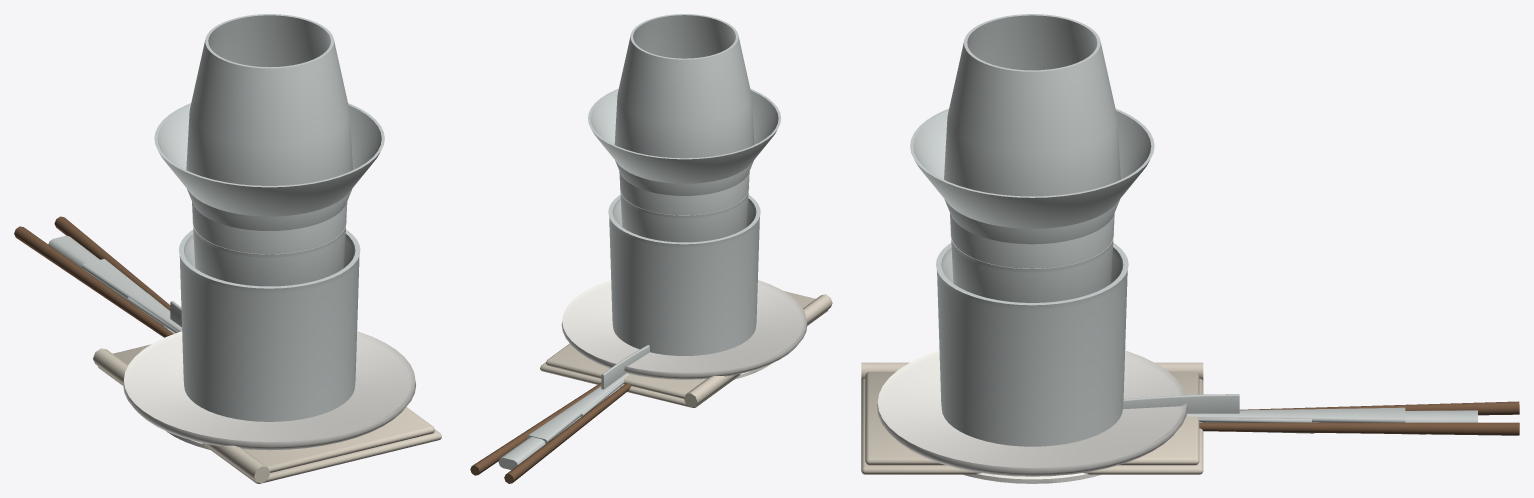
The model's file is tableware-lod0.glb.
3 renders of one model, left to right at view 1: azimuth 30°, elevation 25°; view 2: azimuth 150°, elevation 25°; view 3: azimuth 270°, elevation 25°, orthographic. The views are drawn at different scales.
Parts seen in each view (by area): view 1: wine.lod0__table glass, rocks.lod0__table glass, saucer.lod0__table porcelain, coupe.lod0__table glass, tulip.lod0__table glass, napkin.lod0__oatmeal linen, chopsticks.lod0__chopstick walnut, spoon.lod0__furniture polished nickel, knife.lod0__furniture polished nickel, tumbler.lod0__table glass; view 2: wine.lod0__table glass, rocks.lod0__table glass, saucer.lod0__table porcelain, coupe.lod0__table glass, tulip.lod0__table glass, napkin.lod0__oatmeal linen, chopsticks.lod0__chopstick walnut, knife.lod0__furniture polished nickel, spoon.lod0__furniture polished nickel, tumbler.lod0__table glass; view 3: wine.lod0__table glass, rocks.lod0__table glass, saucer.lod0__table porcelain, coupe.lod0__table glass, tulip.lod0__table glass, napkin.lod0__oatmeal linen, chopsticks.lod0__chopstick walnut, knife.lod0__furniture polished nickel, spoon.lod0__furniture polished nickel, salt-rim.lod0__food, tumbler.lod0__table glass.
Boxes of the visible parts, <box> form: wine.lod0__table glass: <box>186,14,352,230</box>; rocks.lod0__table glass: <box>178,230,360,421</box>; saucer.lod0__table porcelain: <box>123,331,415,450</box>; coupe.lod0__table glass: <box>154,103,384,216</box>; tulip.lod0__table glass: <box>192,202,347,286</box>; napkin.lod0__oatmeal linen: <box>93,344,441,483</box>; chopsticks.lod0__chopstick walnut: <box>14,216,173,337</box>; spoon.lod0__furniture polished nickel: <box>81,259,181,331</box>; knife.lod0__furniture polished nickel: <box>48,235,181,328</box>; tumbler.lod0__table glass: <box>192,220,346,257</box>; wine.lod0__table glass: <box>614,14,754,195</box>; rocks.lod0__table glass: <box>608,195,760,355</box>; saucer.lod0__table porcelain: <box>561,280,807,379</box>; coupe.lod0__table glass: <box>588,89,781,183</box>; tulip.lod0__table glass: <box>619,171,749,242</box>; napkin.lod0__oatmeal linen: <box>540,291,832,407</box>; chopsticks.lod0__chopstick walnut: <box>470,383,631,483</box>; knife.lod0__furniture polished nickel: <box>498,345,649,469</box>; spoon.lod0__furniture polished nickel: <box>527,373,629,443</box>; tumbler.lod0__table glass: <box>620,187,749,218</box>; wine.lod0__table glass: <box>944,14,1120,244</box>; rocks.lod0__table glass: <box>936,243,1128,446</box>; saucer.lod0__table porcelain: <box>877,350,1187,476</box>; coupe.lod0__table glass: <box>910,108,1154,228</box>; tulip.lod0__table glass: <box>950,213,1114,302</box>; napkin.lod0__oatmeal linen: <box>861,362,1203,474</box>; chopsticks.lod0__chopstick walnut: <box>1199,401,1519,435</box>; knife.lod0__furniture polished nickel: <box>1123,394,1477,422</box>; spoon.lod0__furniture polished nickel: <box>1186,407,1405,422</box>; salt-rim.lod0__food: <box>963,473,1101,483</box>; tumbler.lod0__table glass: <box>950,232,1113,272</box>.
Bounding box in the file's own units: 0.15 × 0.2089 × 0.3176.
